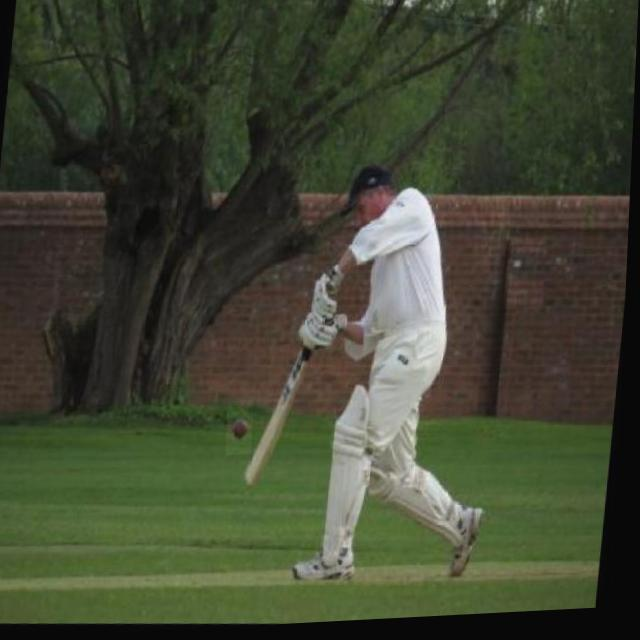-: (230, 403, 258, 458)
